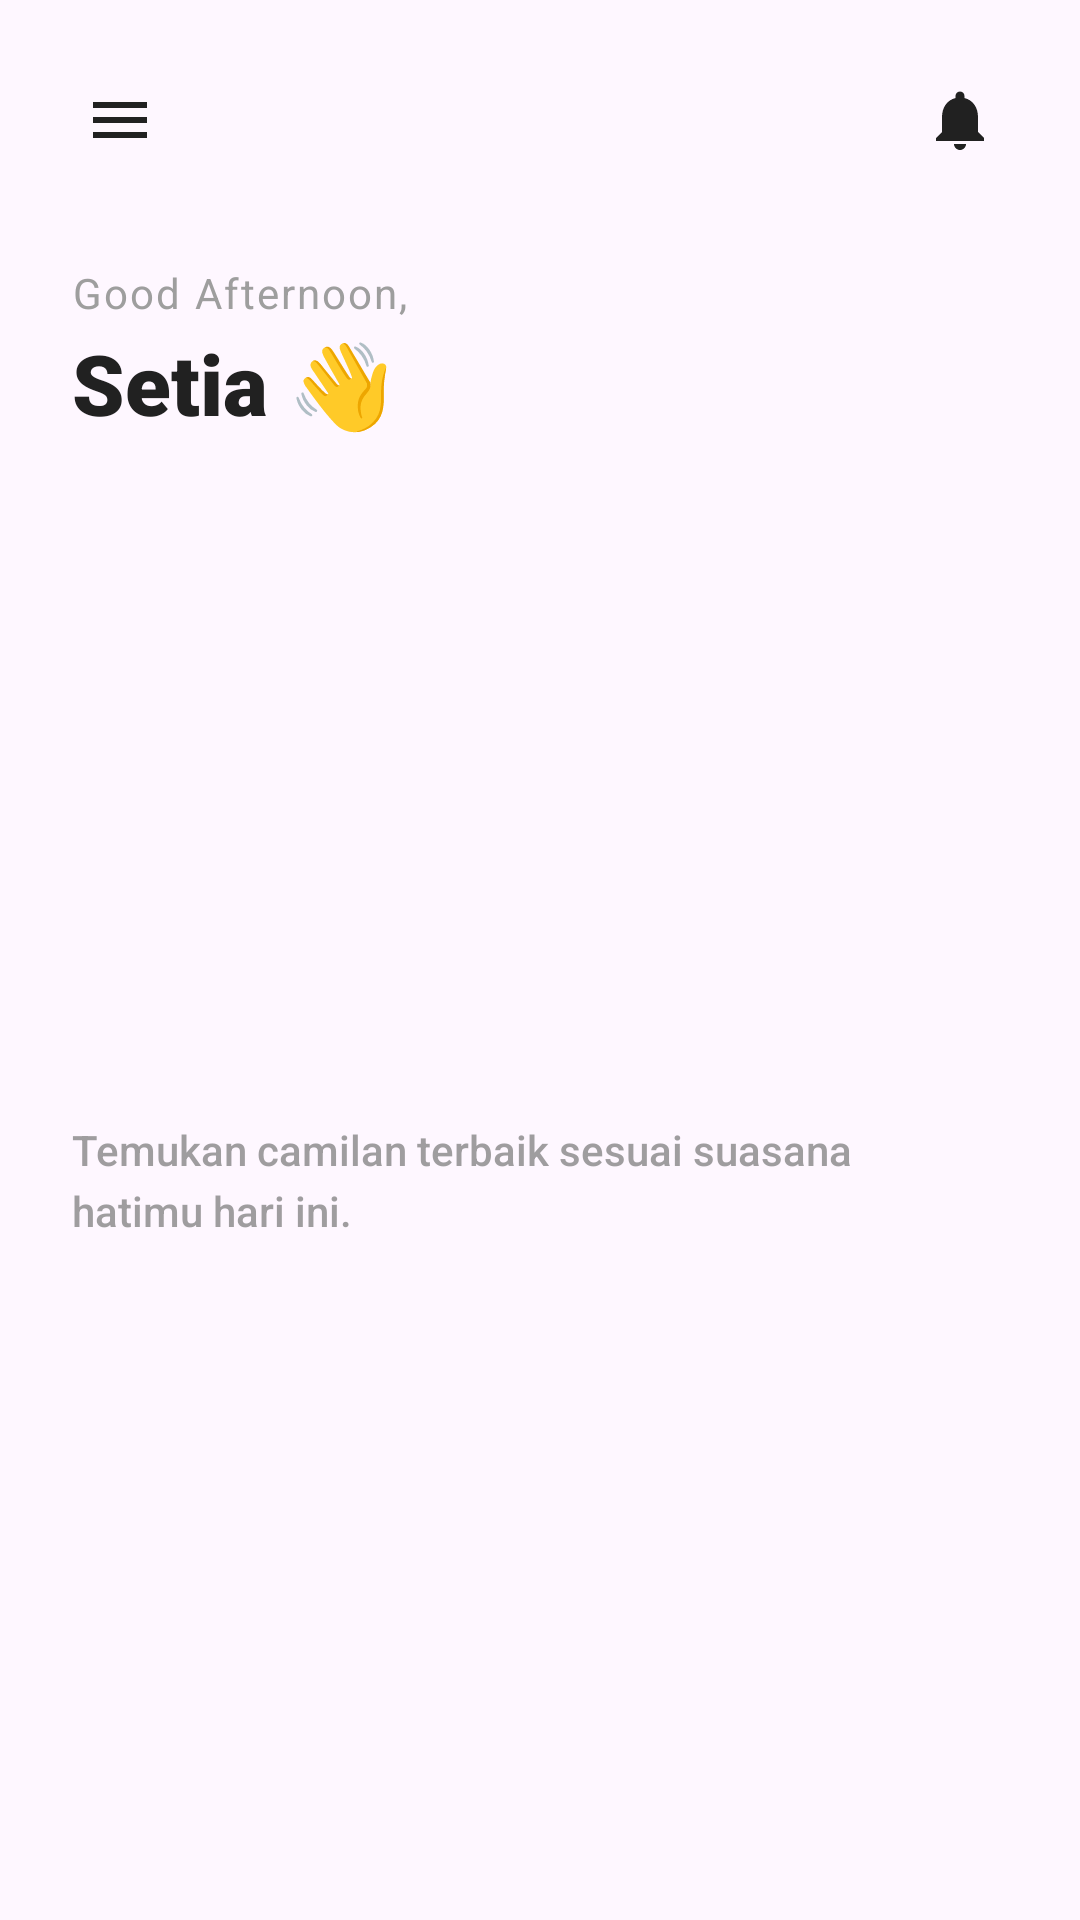

Screen size 1080px x 1920px. Icon name, then its center in pixels as [x,y]:
Menu: [120,120]
Notification: [960,120]
